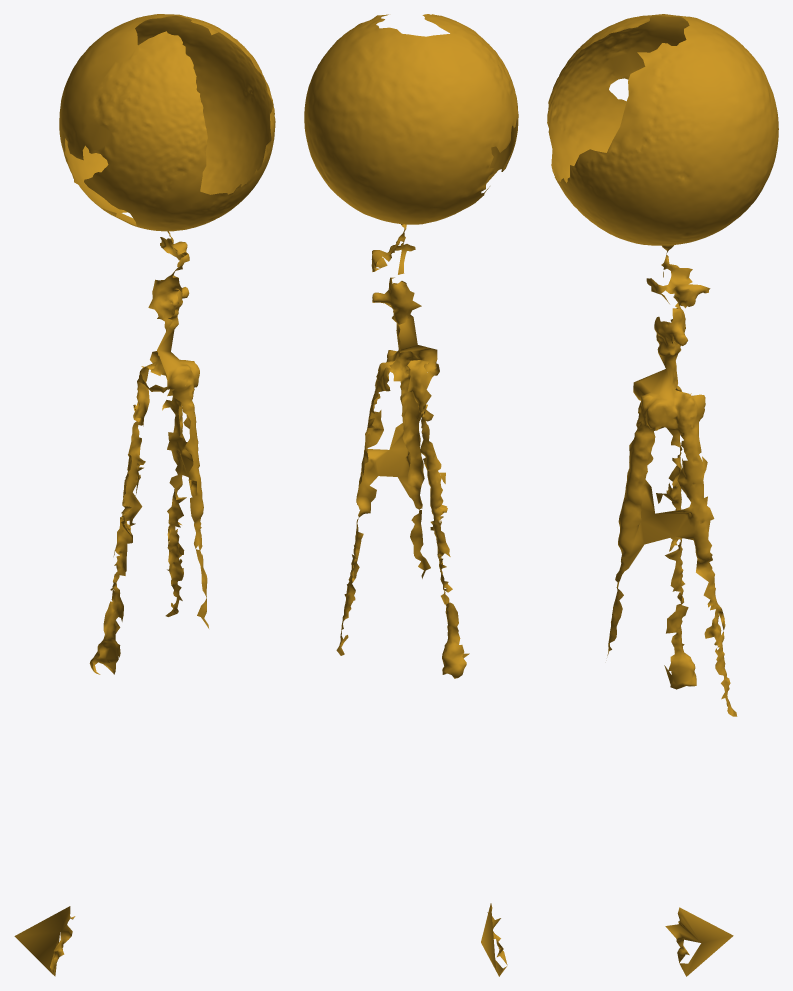
File: Gridtest_0_3_0.000001.obj
The picture shows the model from 3 angles, left to right: view 1: azimuth 30°, elevation 25°; view 2: azimuth 150°, elevation 25°; view 3: azimuth 270°, elevation 25°; orthographic projection. The views are drawn at different scales.
Visible parts, largest first — view 1: ./Gridtest_0_3_0.000001; view 2: ./Gridtest_0_3_0.000001; view 3: ./Gridtest_0_3_0.000001.
Part boxes in pixels (box(x1,y1,x2,y2)): ./Gridtest_0_3_0.000001: box(14, 14, 275, 976); ./Gridtest_0_3_0.000001: box(304, 14, 518, 976); ./Gridtest_0_3_0.000001: box(547, 14, 778, 976).
Size of the model in its own units: 339 by 1424 by 298.
